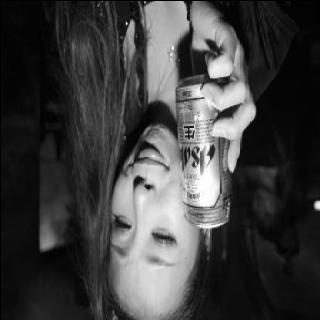alumunium_can: (174, 72, 230, 228)
